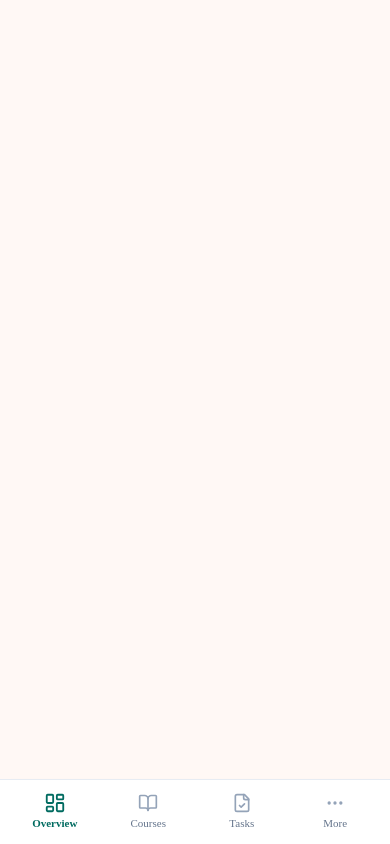
StudentBottomNav Component (NAV-01) › closes the drawer when clicking the close button
This screenshot has width=390, height=844.
Click the button with aria-label "open more navigation options" at [335, 812], box [288, 788, 382, 836]
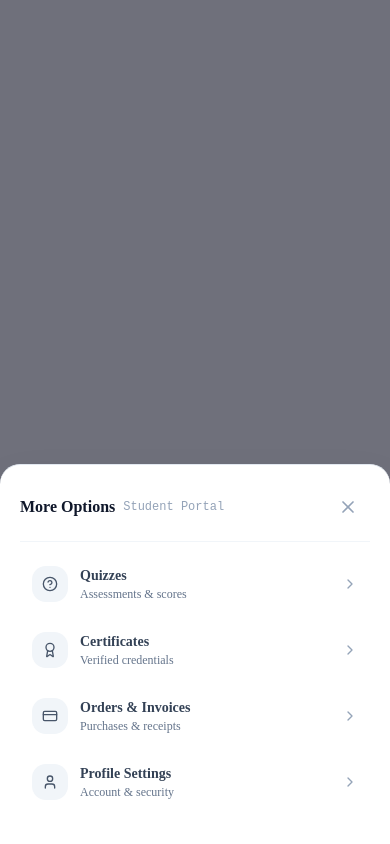
Expected: the dialog is shown, [0, 464, 389, 843]
Click the button named "close navigation menu" at [348, 507], box [326, 485, 370, 529]
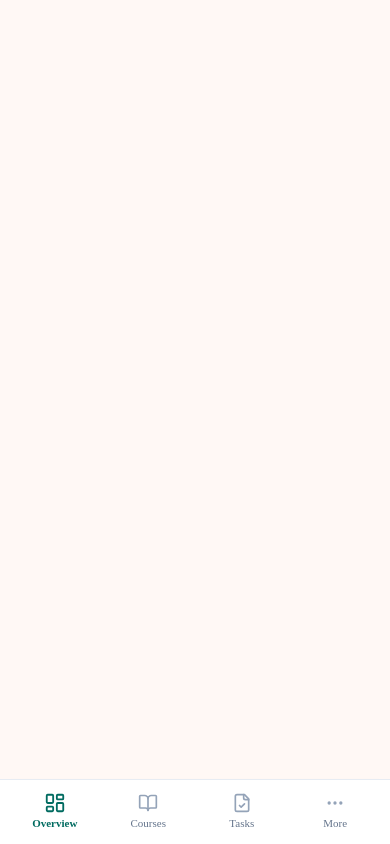
Expected: the dialog is gone
